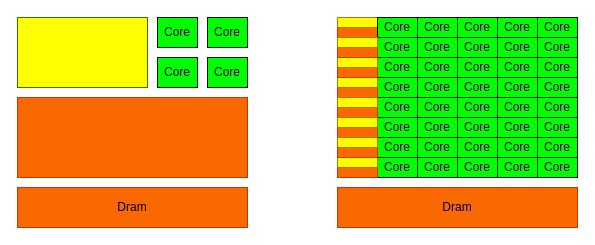
This 595x245 diagram has some shape labels left out. Here are the shapes that lost their labels. From the top down, the centre of each, then its label:
(82,52): Control
(132,137): Cache
